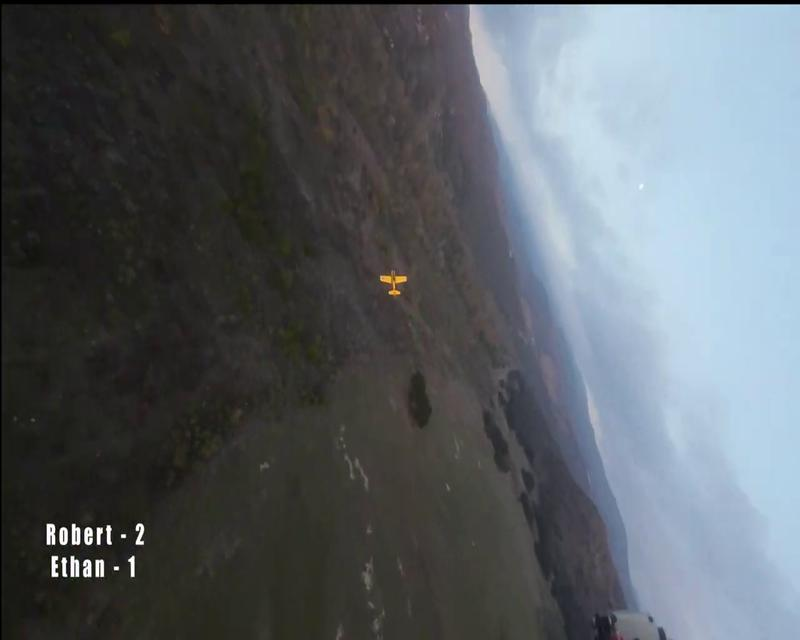UAV: (378, 268, 407, 297)
